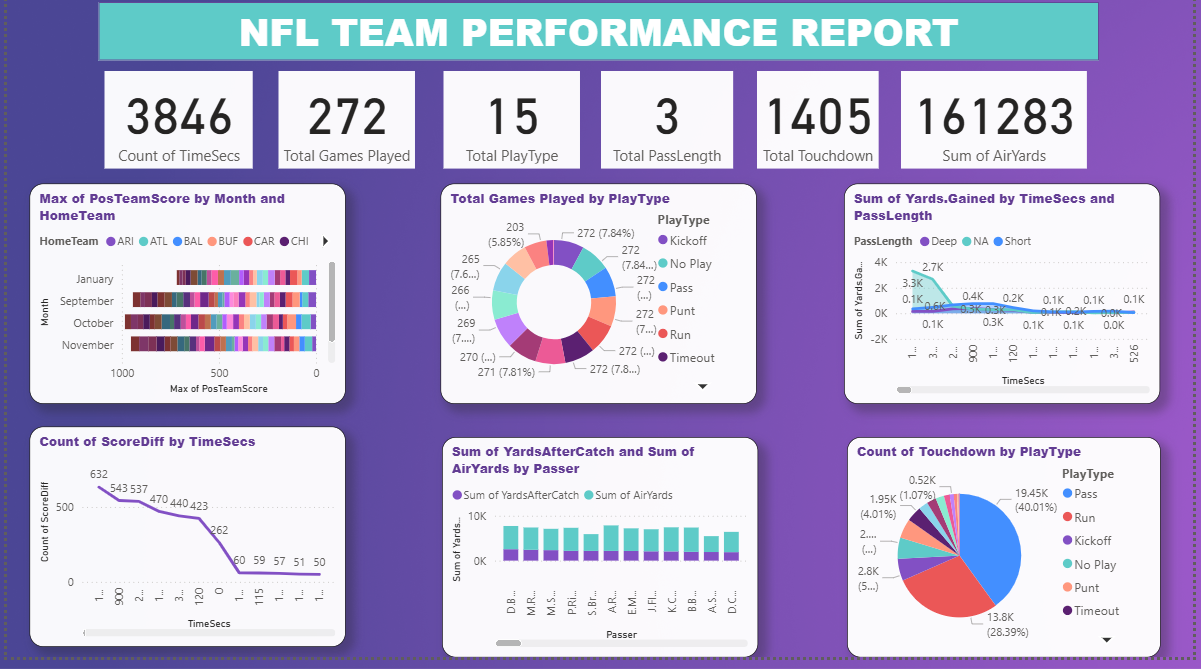

Layout of this report page (visuals, bound fields, positions):
{"tool":"powerbi","page":{"name":"Page 1","canvas":[1280,720],"ordinal":0},"visuals":[{"type":"barChart","fields":{"Y":["NFL Play by Play 2016.PosTeamScore"],"Category":["NFL Play by Play 2016.Date.Variation.Date Hierarchy.Month"],"Series":["NFL Play by Play 2016.HomeTeam"]},"box":[24.3,208.9,341.7,238],"z":0},{"type":"lineChart","fields":{"Category":["NFL Play by Play 2016.TimeSecs"],"Y":["NFL Play by Play 2016.ScoreDiff"]},"box":[24.3,471.2,341.7,238],"z":1},{"type":"donutChart","fields":{"Category":["NFL Play by Play 2016.PlayType"],"Y":["NFL Play by Play 2016.GameID"]},"box":[468,208.9,341.7,238],"z":2},{"type":"columnChart","fields":{"Category":["NFL Play by Play 2016.Passer"],"Y":["NFL Play by Play 2016.YardsAfterCatch","NFL Play by Play 2016.AirYards"]},"box":[469.6,482.5,341.7,238],"z":3},{"type":"areaChart","fields":{"Category":["NFL Play by Play 2016.TimeSecs"],"Y":["NFL Play by Play 2016.Yards.Gained"],"Series":["NFL Play by Play 2016.PassLength"]},"box":[903.5,208.9,341.7,238],"z":5},{"type":"pieChart","fields":{"Category":["NFL Play by Play 2016.PlayType"],"Y":["NFL Play by Play 2016.Touchdown"]},"box":[906.8,482.5,338.4,238],"z":6},{"type":"shape","box":[98.8,13,1080,63.1],"z":7},{"type":"card","fields":{"Values":["NFL Play by Play 2016.PlayType"]},"box":[471.2,87.4,147.3,105.2],"z":8},{"type":"card","fields":{"Values":["NFL Play by Play 2016.GameID"]},"box":[293.1,87.4,147.3,105.2],"z":9},{"type":"card","fields":{"Values":["NFL Play by Play 2016.AirYards"]},"box":[965.1,87.4,200.8,105.2],"z":10},{"type":"card","fields":{"Values":["NFL Play by Play 2016.Touchdown"]},"box":[809.6,87.4,131.2,105.2],"z":11},{"type":"card","fields":{"Values":["NFL Play by Play 2016.PassLength"]},"box":[641.2,87.4,142.5,105.2],"z":12},{"type":"card","fields":{"Values":["NFL Play by Play 2016.TimeSecs"]},"box":[105.2,87.4,160.3,105.2],"z":13}]}

Visuals, with their boxes in screenshot pixels (x1, y1, x2, y2), scaled from the page's 1280x720 canvas onto the 1201x669 screenshot:
barChart - NFL Play by Play 2016.PosTeamScore x NFL Play by Play 2016.Date.Variation.Date Hierarchy.Month: {"x1": 23, "y1": 194, "x2": 343, "y2": 415}
lineChart - NFL Play by Play 2016.TimeSecs x NFL Play by Play 2016.ScoreDiff: {"x1": 23, "y1": 438, "x2": 343, "y2": 659}
donutChart - NFL Play by Play 2016.PlayType x NFL Play by Play 2016.GameID: {"x1": 439, "y1": 194, "x2": 760, "y2": 415}
columnChart - NFL Play by Play 2016.Passer x NFL Play by Play 2016.YardsAfterCatch: {"x1": 441, "y1": 448, "x2": 761, "y2": 668}
areaChart - NFL Play by Play 2016.TimeSecs x NFL Play by Play 2016.Yards.Gained: {"x1": 848, "y1": 194, "x2": 1168, "y2": 415}
pieChart - NFL Play by Play 2016.PlayType x NFL Play by Play 2016.Touchdown: {"x1": 851, "y1": 448, "x2": 1168, "y2": 668}
shape: {"x1": 93, "y1": 12, "x2": 1106, "y2": 71}
card - NFL Play by Play 2016.PlayType: {"x1": 442, "y1": 81, "x2": 580, "y2": 179}
card - NFL Play by Play 2016.GameID: {"x1": 275, "y1": 81, "x2": 413, "y2": 179}
card - NFL Play by Play 2016.AirYards: {"x1": 906, "y1": 81, "x2": 1094, "y2": 179}
card - NFL Play by Play 2016.Touchdown: {"x1": 760, "y1": 81, "x2": 883, "y2": 179}
card - NFL Play by Play 2016.PassLength: {"x1": 602, "y1": 81, "x2": 735, "y2": 179}
card - NFL Play by Play 2016.TimeSecs: {"x1": 99, "y1": 81, "x2": 249, "y2": 179}
